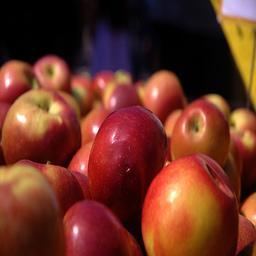apple: (140, 155, 239, 254), (87, 104, 167, 220), (1, 88, 81, 169), (60, 201, 143, 256), (170, 98, 230, 165)
